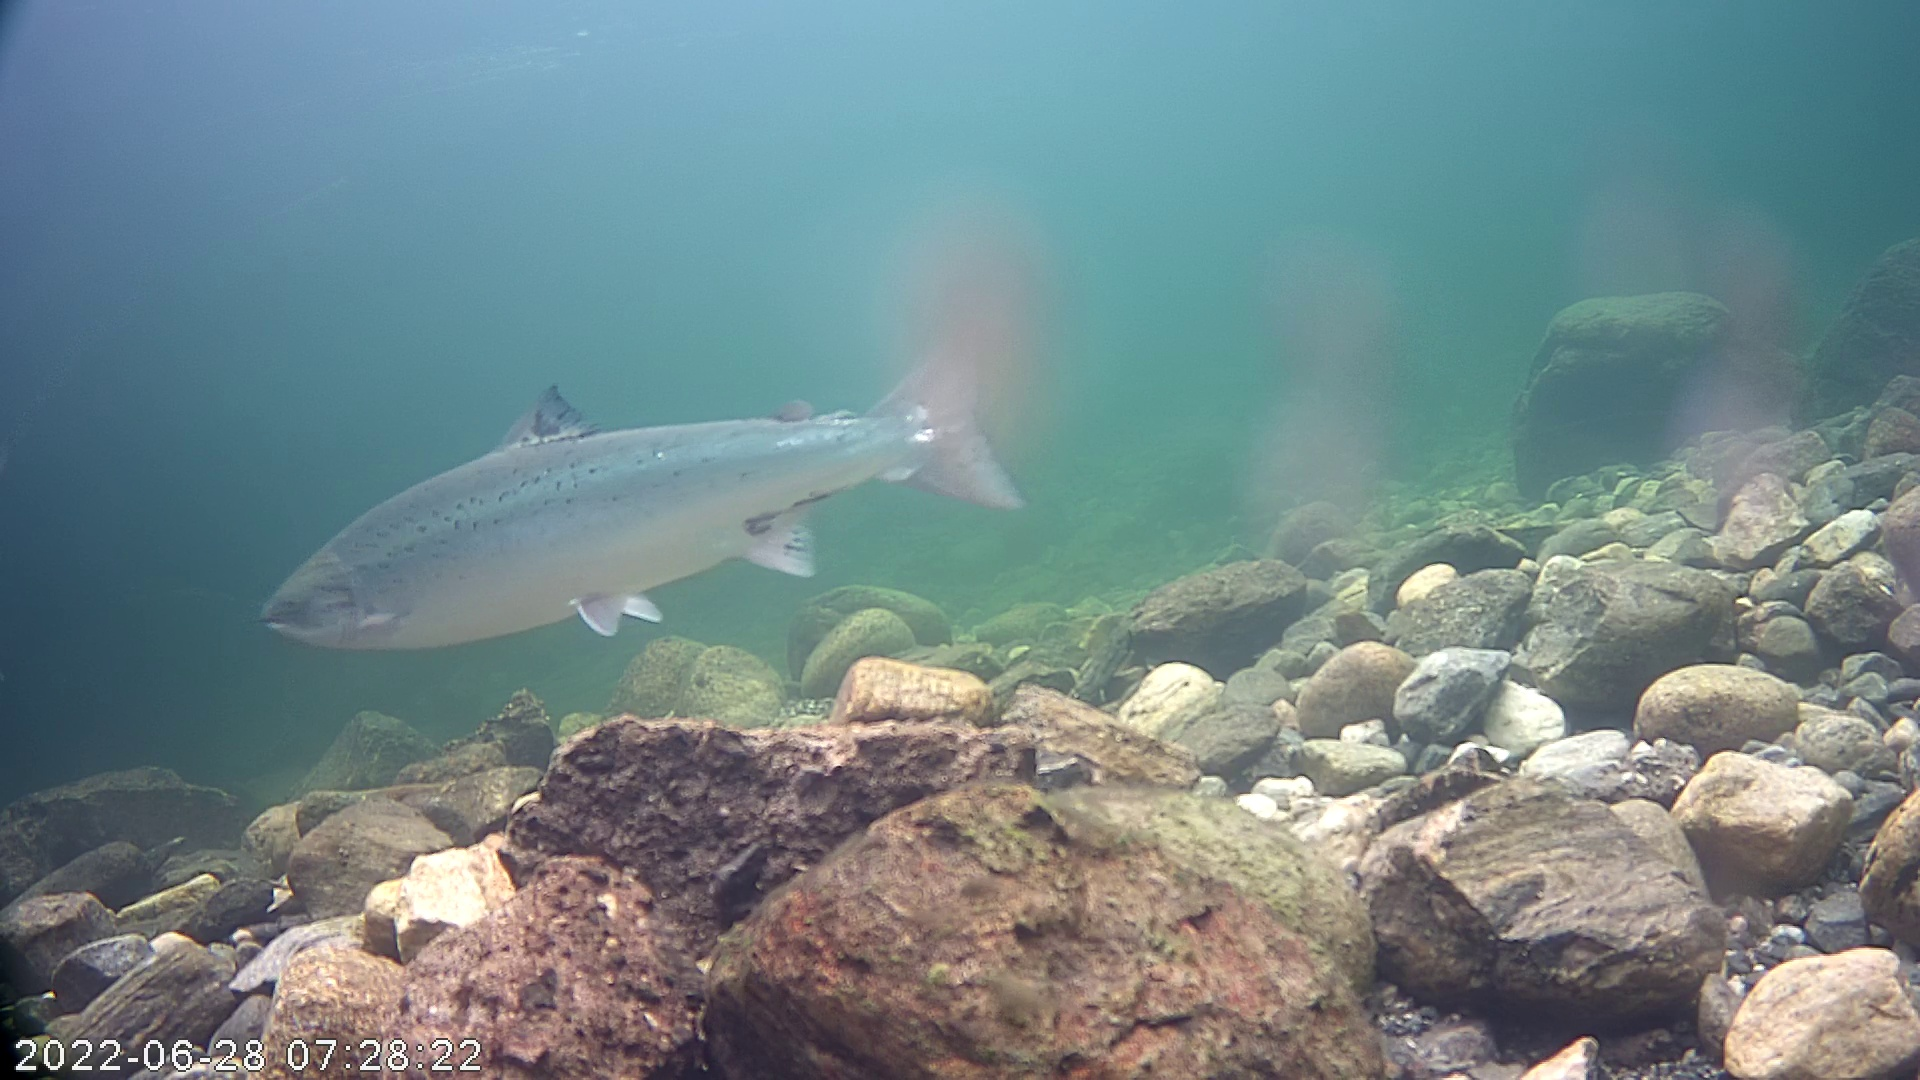salmon: (249, 262, 1058, 703)
